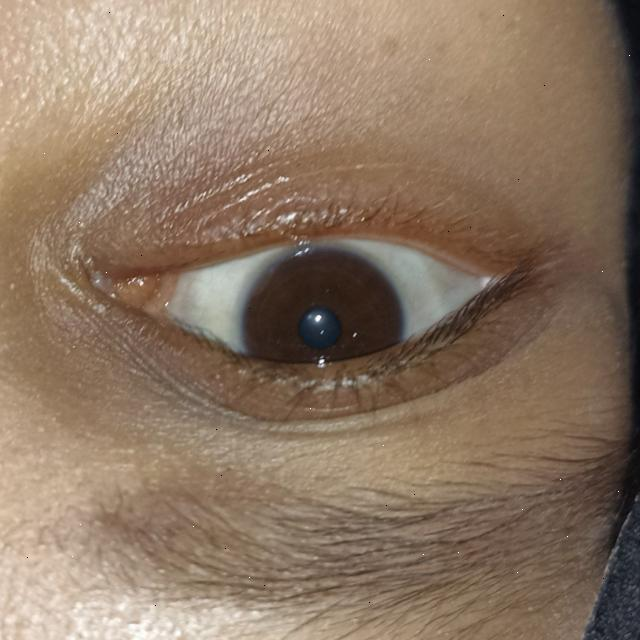Normal: (238, 240, 402, 396)
